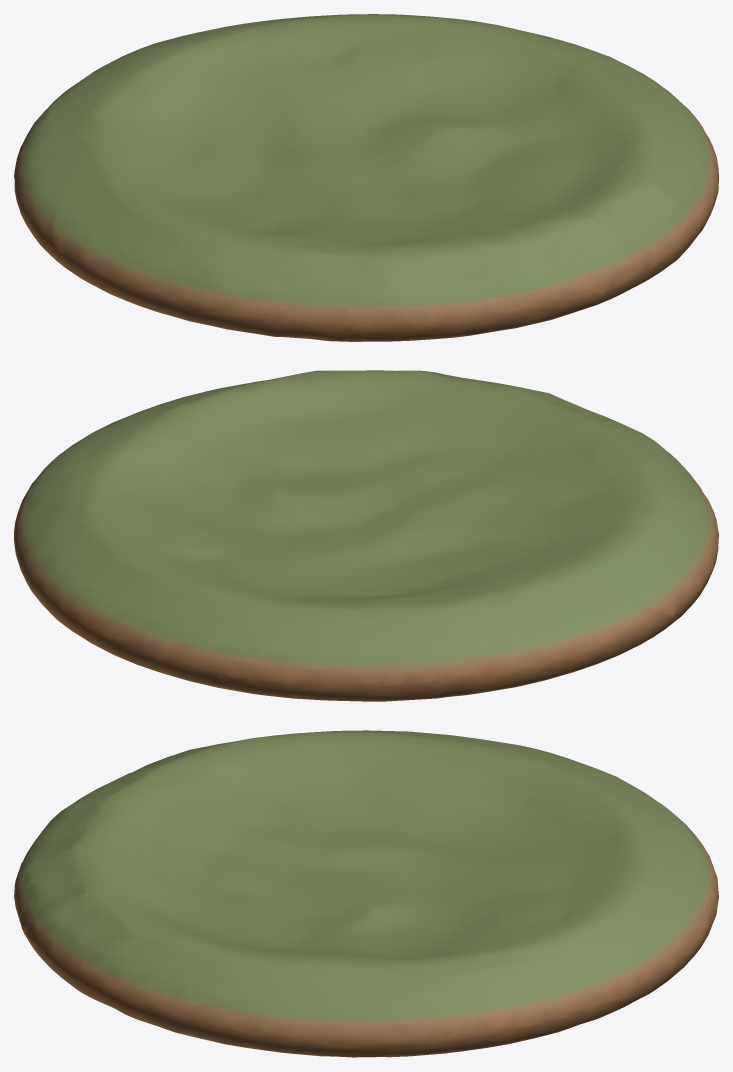
Rendered from settlement_house.glb.
3 views of the same model, one above another, from view 1: azimuth 30°, elevation 25°; view 2: azimuth 150°, elevation 25°; view 3: azimuth 270°, elevation 25° (orthographic).
Visible parts, largest first — view 1: tripo_node_2d9e9f98-d764-4dac-9c9b-3e796790b230; view 2: tripo_node_2d9e9f98-d764-4dac-9c9b-3e796790b230; view 3: tripo_node_2d9e9f98-d764-4dac-9c9b-3e796790b230.
Part boxes in pixels (x1=…): tripo_node_2d9e9f98-d764-4dac-9c9b-3e796790b230: x1=14, y1=14, x2=718, y2=341; tripo_node_2d9e9f98-d764-4dac-9c9b-3e796790b230: x1=14, y1=370, x2=718, y2=701; tripo_node_2d9e9f98-d764-4dac-9c9b-3e796790b230: x1=14, y1=730, x2=718, y2=1057.
Bounding box in the file's own units: 1 × 0.1049 × 0.9966.
Materials: 1 (1 with a texture image).
